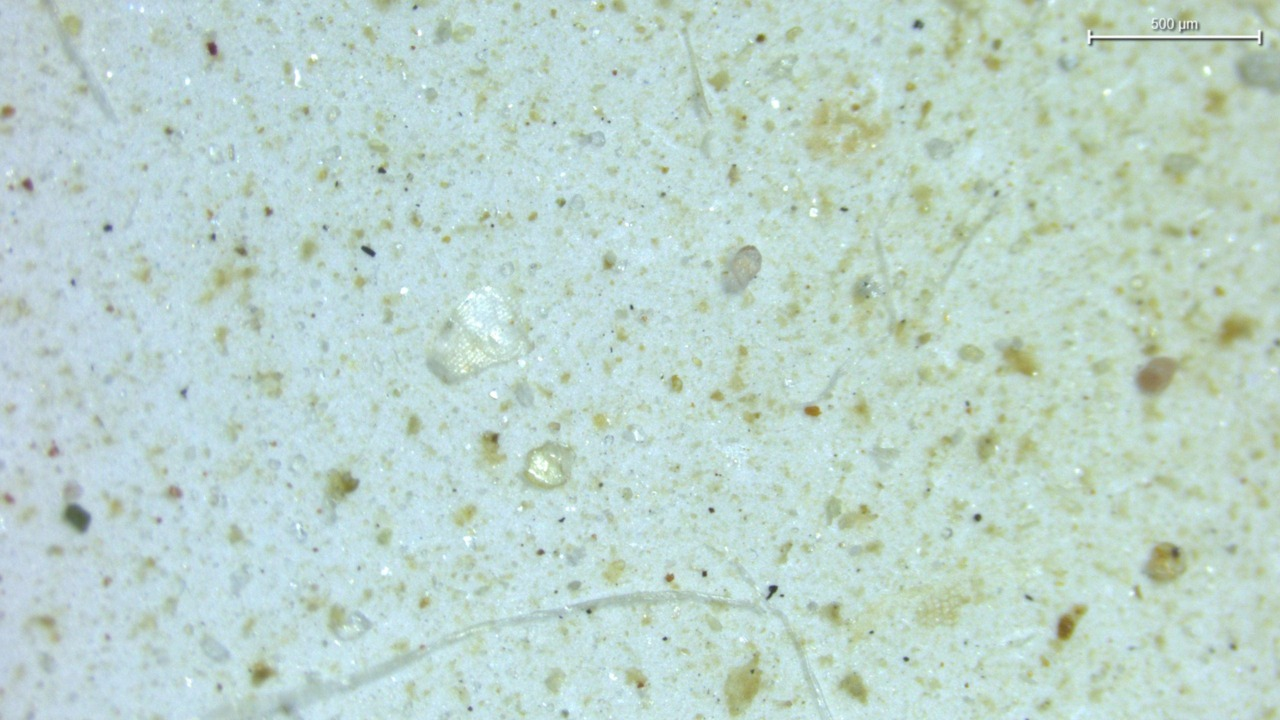microplastic_fragment: (428, 287, 528, 383), (524, 442, 576, 488), (722, 246, 761, 294)
